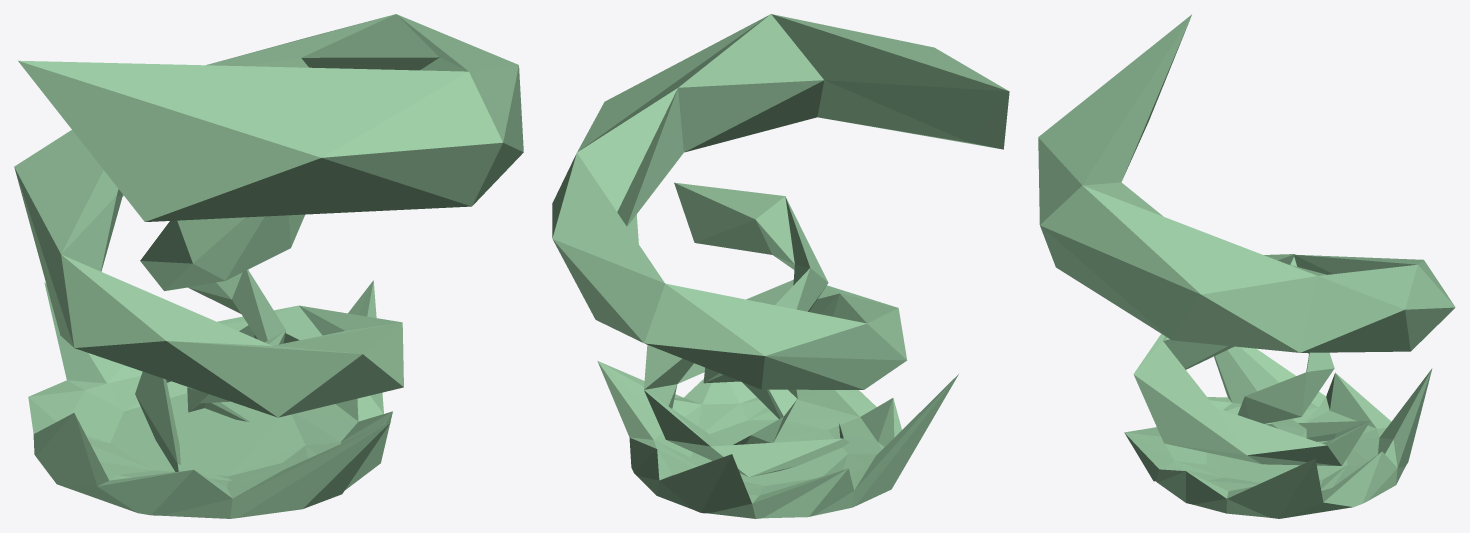
Rendered from Big_Wind.fbx.
3 views of the same model, side by side, from view 1: azimuth 30°, elevation 25°; view 2: azimuth 150°, elevation 25°; view 3: azimuth 270°, elevation 25° (orthographic). The views are drawn at different scales.
Parts seen in each view (by area): view 1: Cube.008; view 2: Cube.008; view 3: Cube.008.
Part boxes in pixels (x1,y1,x2,y2): Cube.008: (14,14,523,518); Cube.008: (552,14,1009,518); Cube.008: (1038,14,1455,518).
Size of the model in its own units: 333 by 305 by 321.
